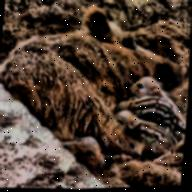boar: (0, 9, 191, 192), (122, 74, 189, 112)
